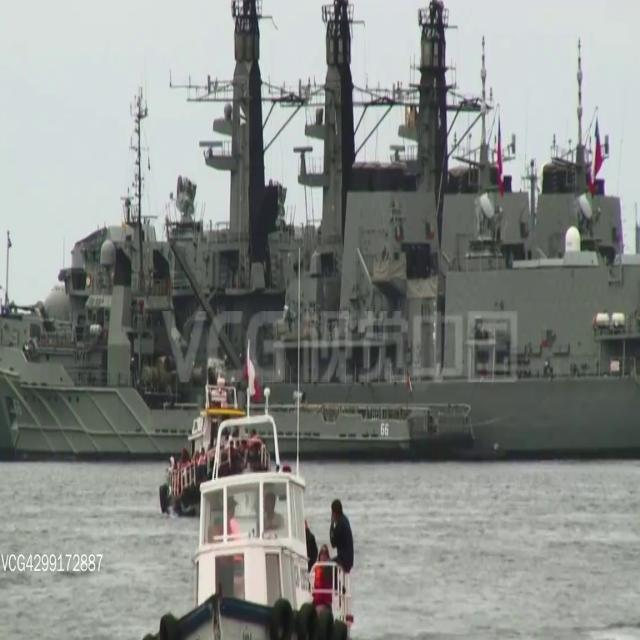houseboat: (143, 406, 390, 640), (160, 379, 274, 520)
navalvessels: (0, 0, 640, 465)
